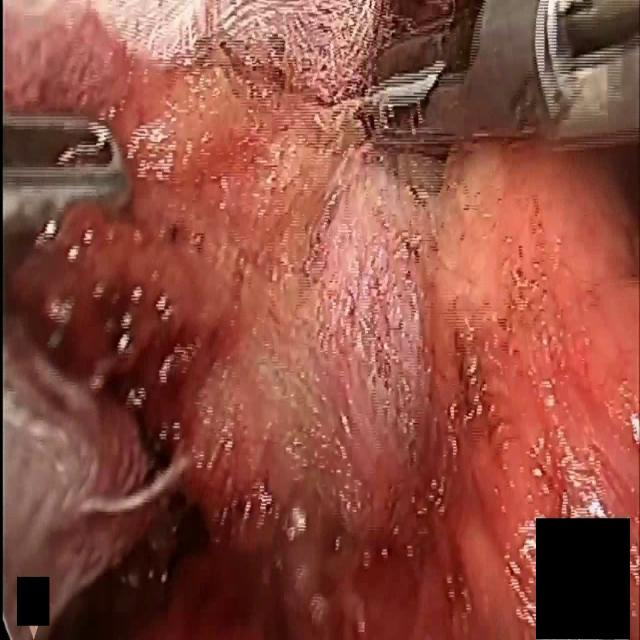surgical-area: (0, 0, 640, 639)
surgical-tool: (360, 0, 640, 156), (1, 113, 134, 236)
